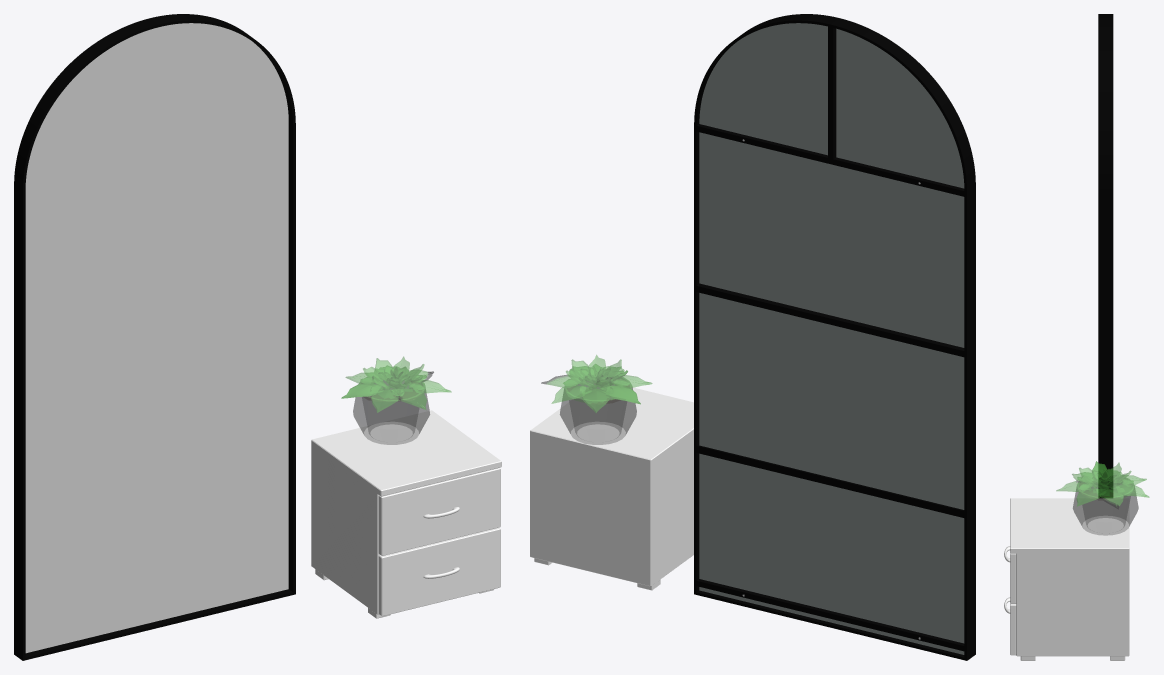
File: BGrav100x190.glb
3 renders of one model, left to right at view 1: azimuth 30°, elevation 25°; view 2: azimuth 150°, elevation 25°; view 3: azimuth 270°, elevation 25°, orthographic. The views are drawn at different scales.
Parts seen in each view (by area): view 1: mirror_80x180, Nightstand, uploads_files_2863906_Succulent+Plant; view 2: mirror_80x180, Nightstand, uploads_files_2863906_Succulent+Plant; view 3: Nightstand, mirror_80x180, uploads_files_2863906_Succulent+Plant.
Boxes of the visible parts, box(x1,y1,x2,y2) form: mirror_80x180: box(14, 14, 295, 660); Nightstand: box(311, 410, 501, 618); uploads_files_2863906_Succulent+Plant: box(341, 356, 451, 444); mirror_80x180: box(694, 14, 975, 660); Nightstand: box(530, 380, 693, 590); uploads_files_2863906_Succulent+Plant: box(541, 355, 652, 444); Nightstand: box(1004, 498, 1129, 660); mirror_80x180: box(1098, 14, 1113, 497); uploads_files_2863906_Succulent+Plant: box(1056, 461, 1149, 535).
Size of the model in its own units: 1.41 by 1.9 by 0.4889.
